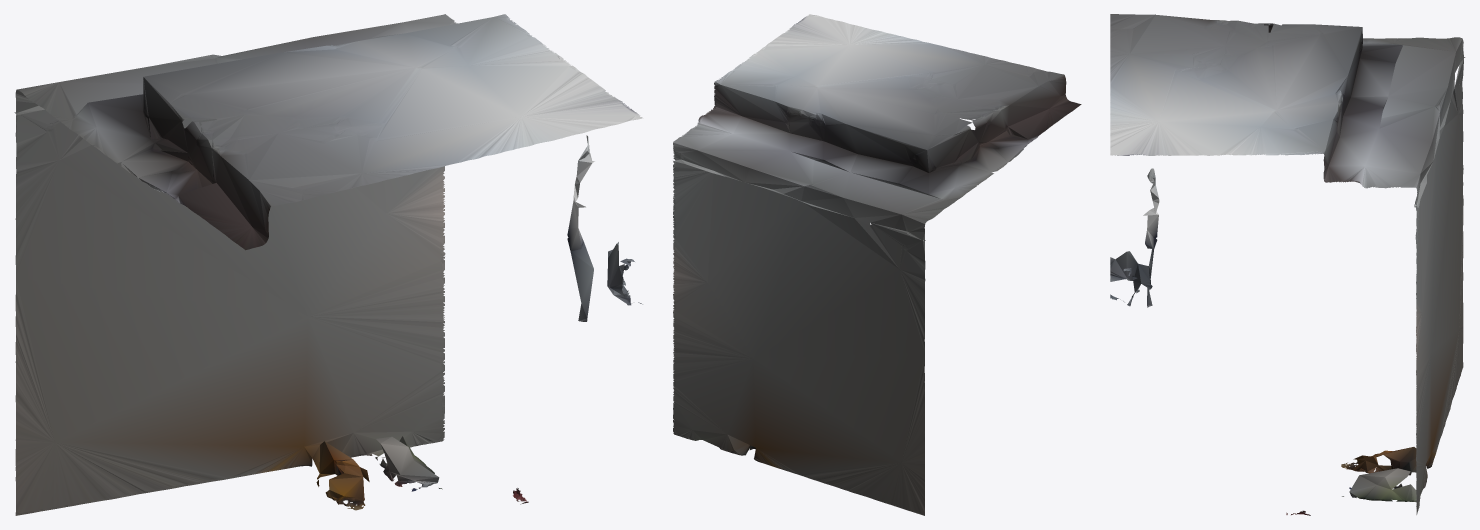
The model's file is coarse.glb.
3 views of the same model, side by side, from view 1: azimuth 30°, elevation 25°; view 2: azimuth 150°, elevation 25°; view 3: azimuth 270°, elevation 25° (orthographic). The views are drawn at different scales.
Size of the model in its own units: 1.94 by 2.21 by 1.95.
